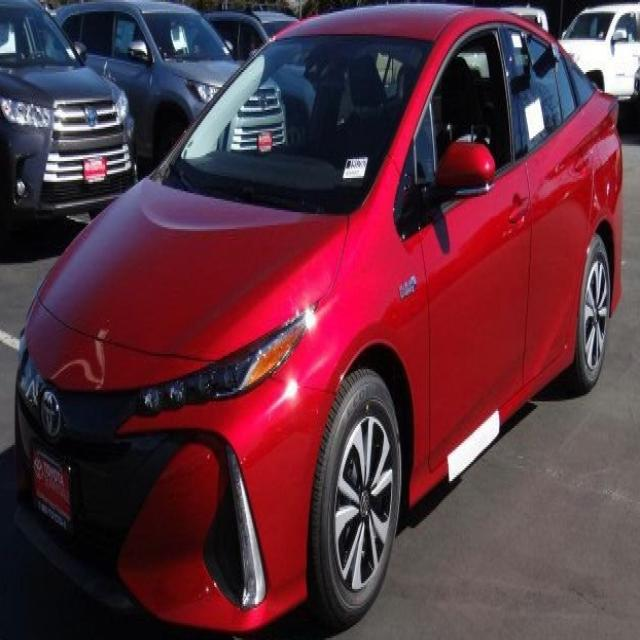red: (24, 13, 640, 637)
